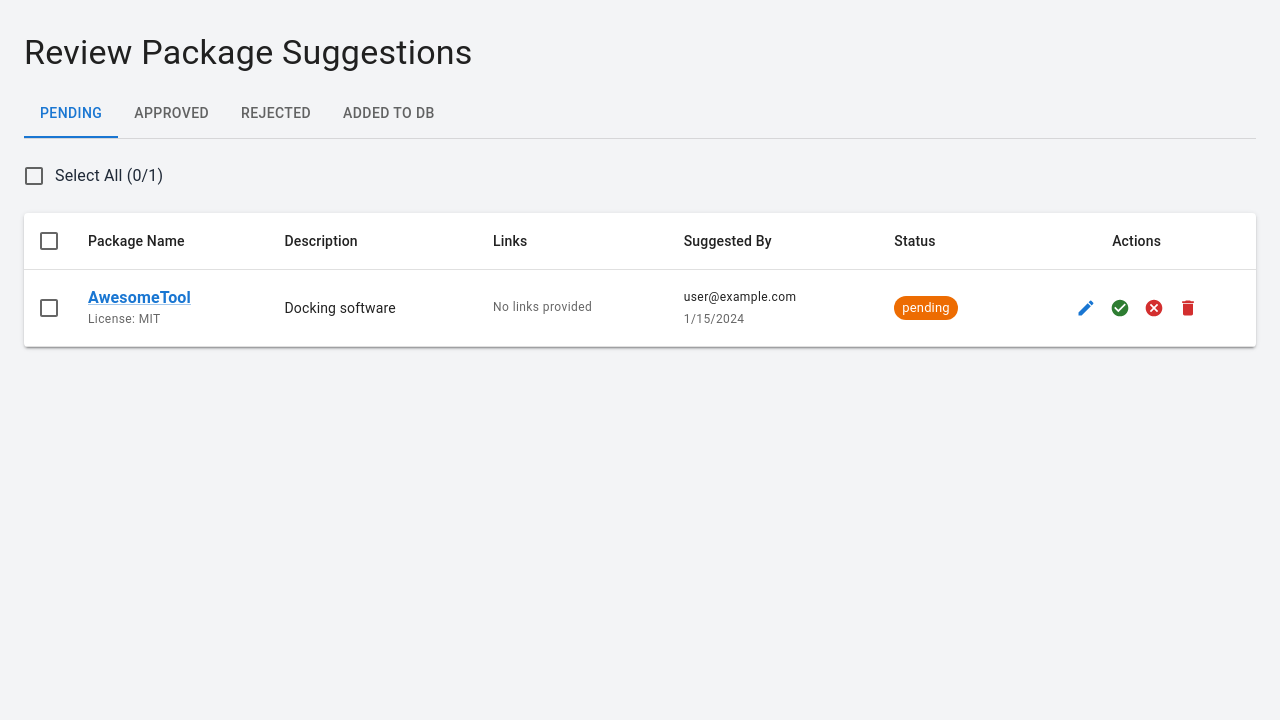
Test case: AdminReviewSuggestionsPage — suggestion actions › opens the edit modal when the edit icon button is clicked
expect the button "AwesomeTool" is shown: met, box [88,286,191,310]
Click the button titled "Edit Suggestion": (1086, 308) [1071,293,1101,323]
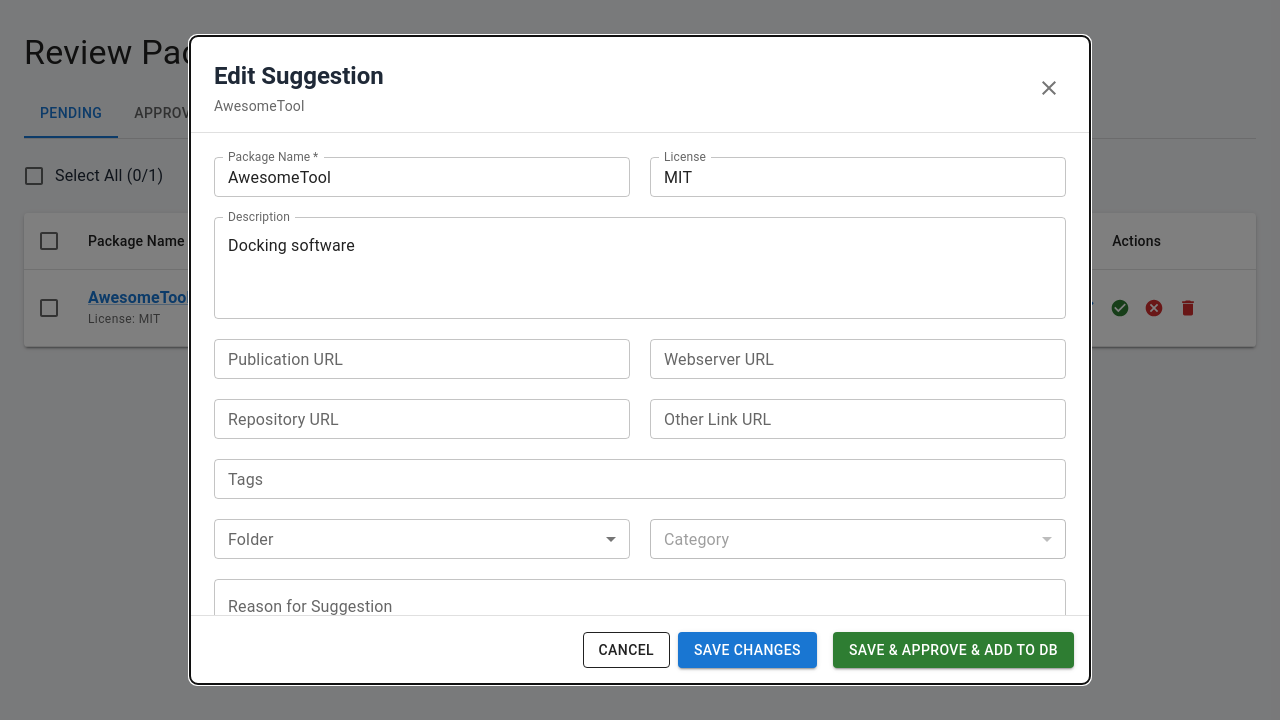
expect the heading "Edit Suggestion" is shown: met, box [214,62,384,90]
